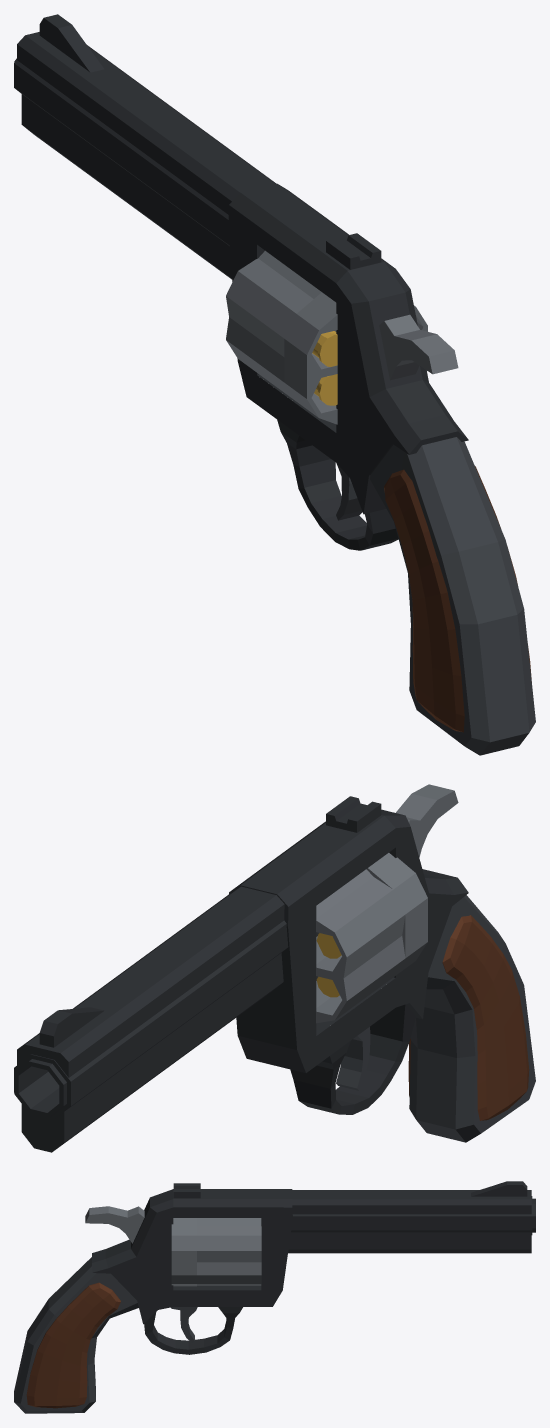
3 renders of one model, top to bottom at view 1: azimuth 30°, elevation 25°; view 2: azimuth 150°, elevation 25°; view 3: azimuth 270°, elevation 25°, orthographic. The views are drawn at different scales.
Visible parts, largest first — view 1: body_revMetal_1, body_revGrey_3, cyl_revLightMetal_2, body_revDarkWood_0, body_revLightMetal_5, mag_brass_6; view 2: body_revMetal_1, body_revGrey_3, cyl_revLightMetal_2, body_revDarkWood_0, body_revLightMetal_5, mag_brass_6; view 3: body_revMetal_1, body_revDarkWood_0, cyl_revLightMetal_2, body_revGrey_3, body_revLightMetal_5, cyl_revMetal_4.
Boxes of the visible parts, x1,y1,x2,y2 form: body_revMetal_1: [14, 14, 468, 550]; body_revGrey_3: [336, 437, 535, 755]; cyl_revLightMetal_2: [226, 250, 427, 424]; body_revDarkWood_0: [384, 466, 531, 732]; body_revLightMetal_5: [379, 314, 458, 380]; mag_brass_6: [312, 331, 337, 405]; body_revMetal_1: [14, 796, 468, 1152]; body_revGrey_3: [336, 895, 535, 1142]; cyl_revLightMetal_2: [316, 853, 427, 1023]; body_revDarkWood_0: [408, 915, 529, 1120]; body_revLightMetal_5: [396, 784, 458, 857]; mag_brass_6: [316, 933, 341, 997]; body_revMetal_1: [92, 1181, 535, 1354]; body_revDarkWood_0: [26, 1282, 120, 1408]; cyl_revLightMetal_2: [171, 1218, 261, 1286]; body_revGrey_3: [14, 1257, 197, 1413]; body_revLightMetal_5: [85, 1206, 144, 1243]; cyl_revMetal_4: [173, 1286, 261, 1290].
Size of the model in its own units: 0.041 by 0.1315 by 0.2761.
